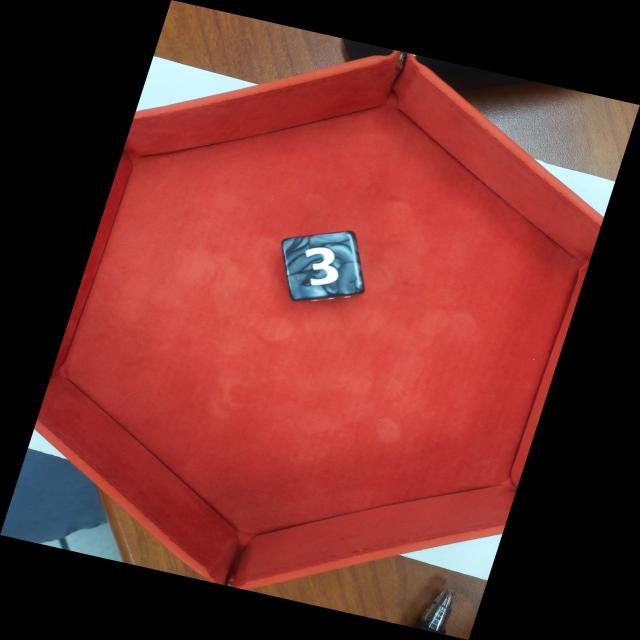dice: (282, 233, 363, 302)
